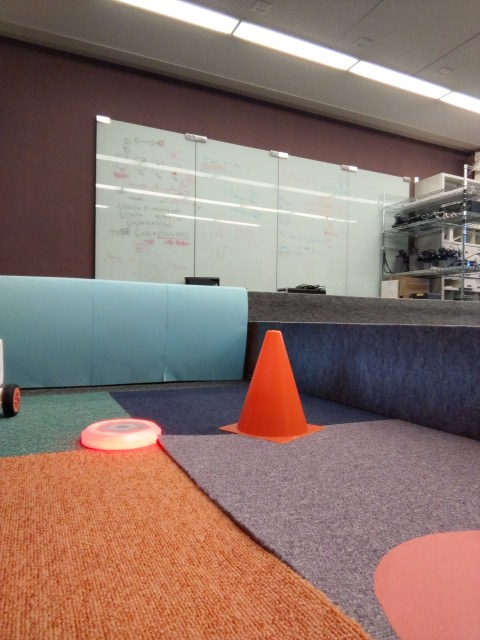r: (77, 414, 164, 451)
